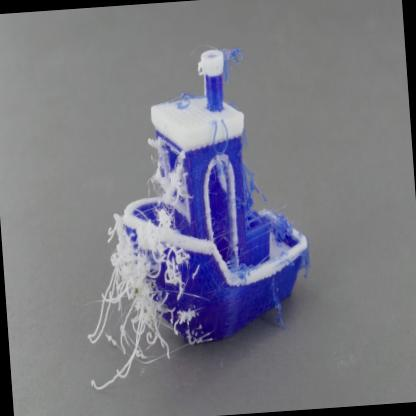fail: (78, 200, 196, 392), (242, 152, 264, 213), (223, 45, 248, 86)
